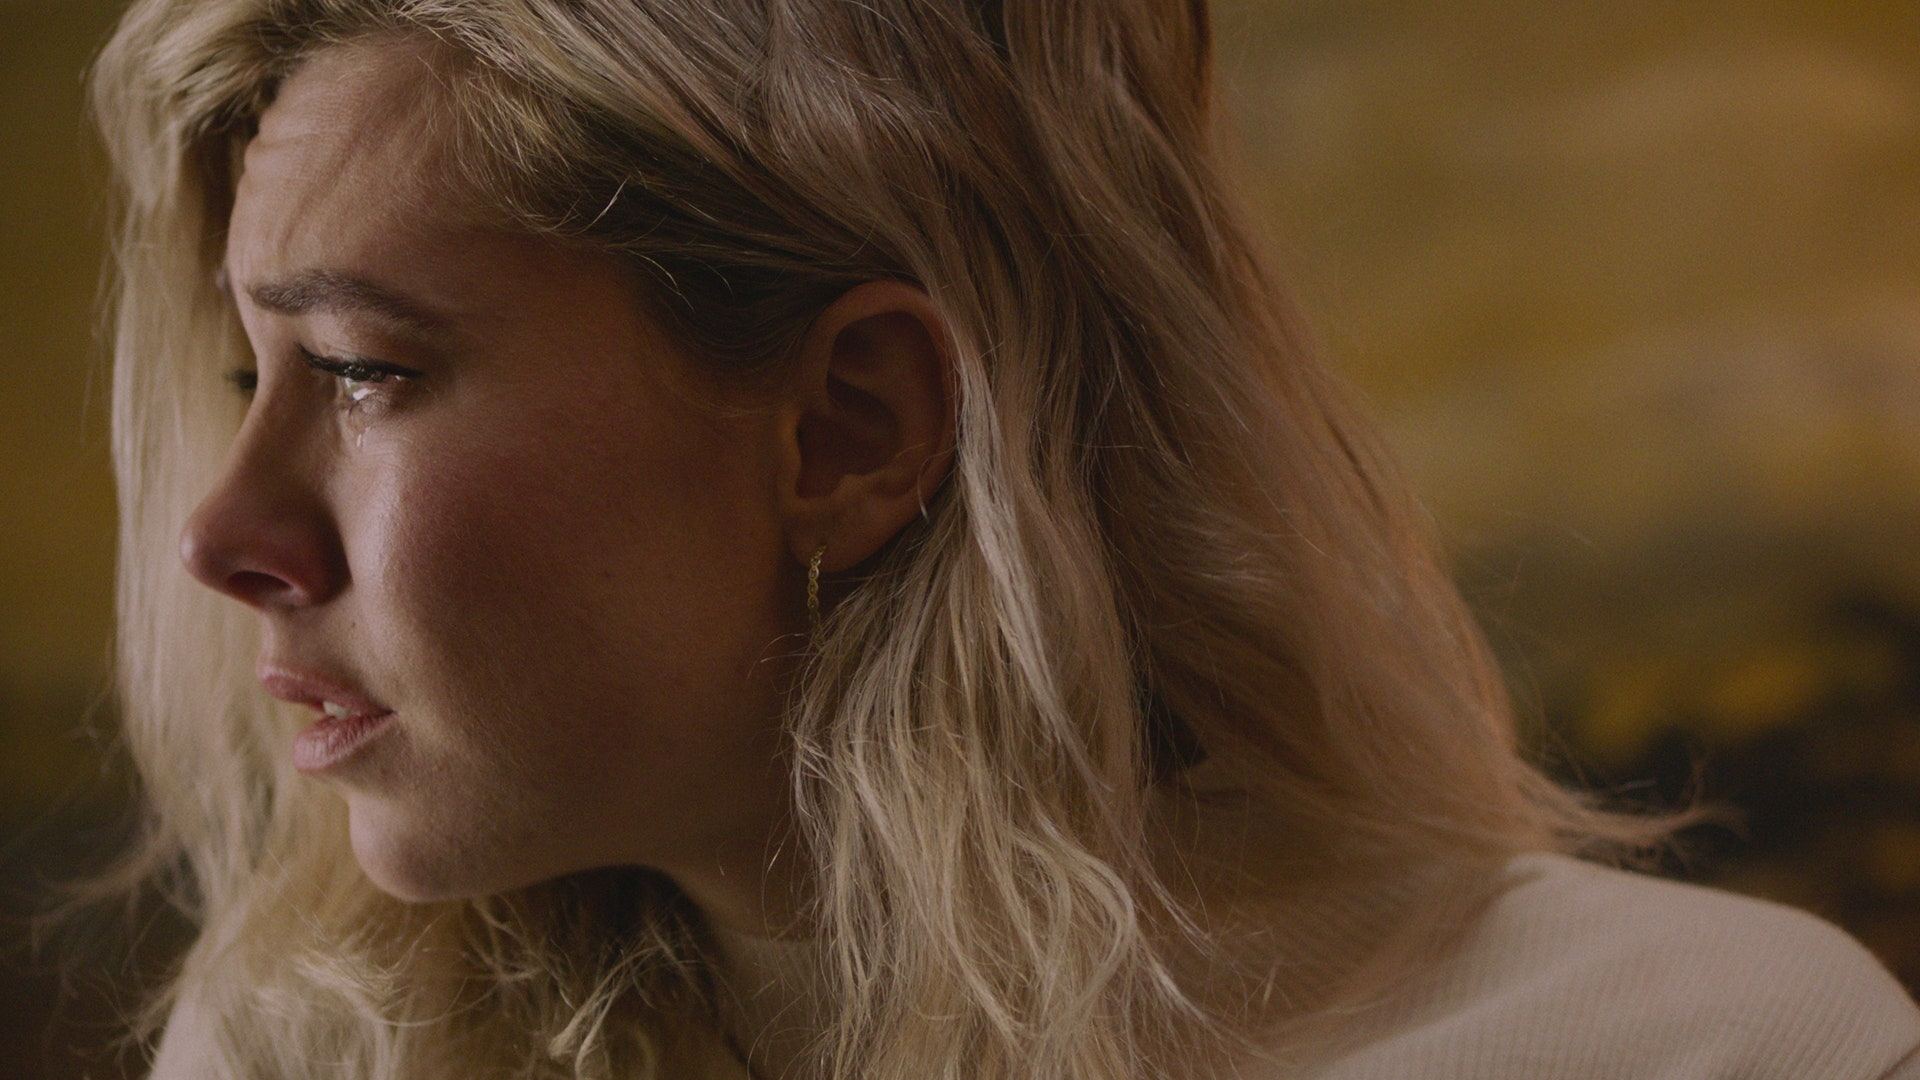Without Helmet: (77, 1, 1344, 991)
